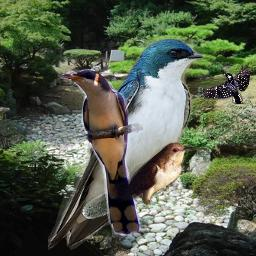Cuckoo: (59, 69, 143, 238), (110, 142, 196, 205)
Swallow: (48, 38, 205, 250)
Woodpecker: (198, 66, 250, 104)
